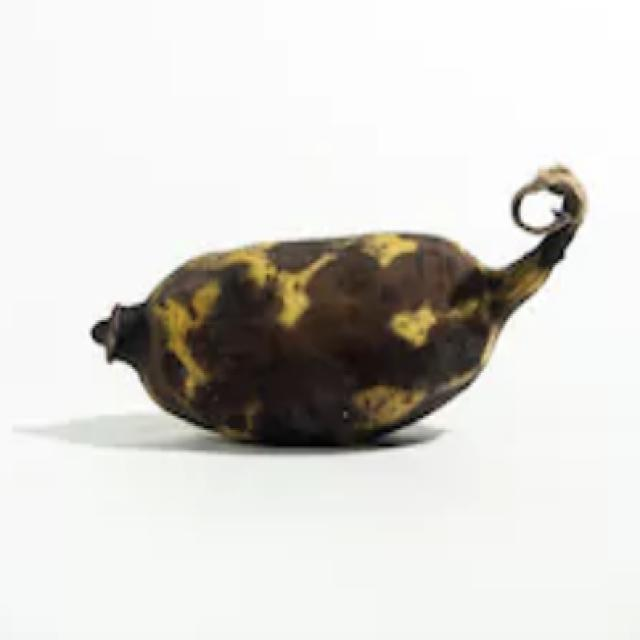rotten-banana: (88, 161, 587, 446)
